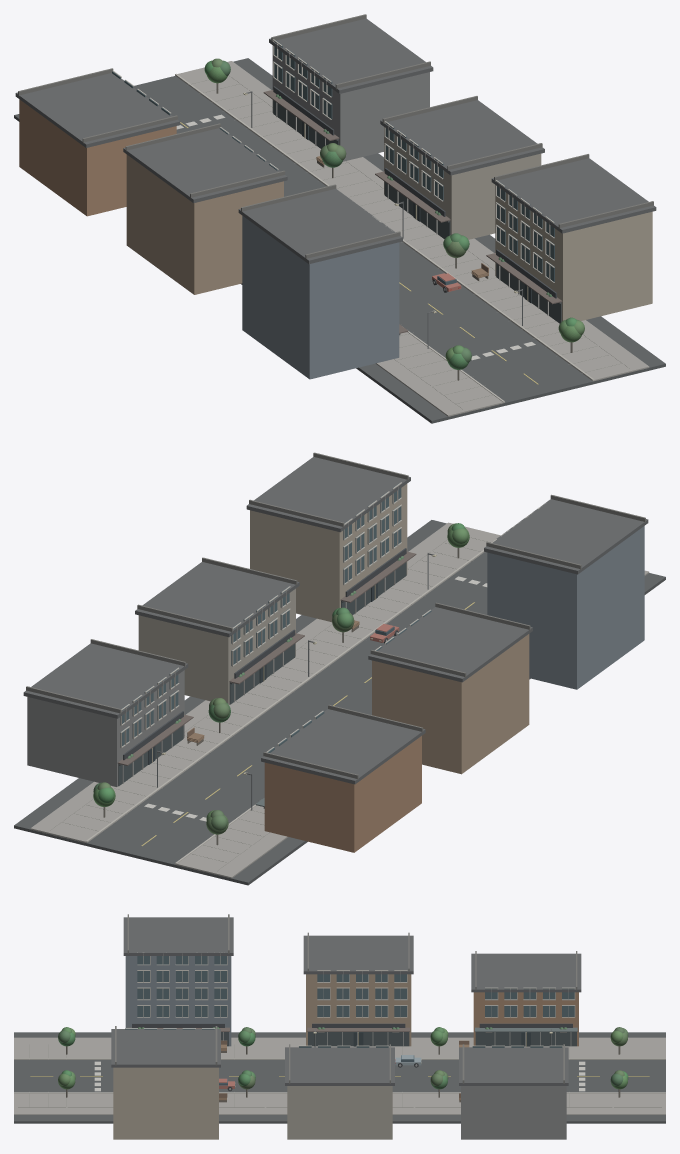
Rendered from Zerconda_Street_V5.glb.
3 renders of one model, top to bottom at view 1: azimuth 30°, elevation 25°; view 2: azimuth 150°, elevation 25°; view 3: azimuth 270°, elevation 25°, orthographic. The views are drawn at different scales.
Visible parts, largest first — view 1: asphalt_0, building_482, sidewalk_50, building_288, building_624, building_124, roof_cornice_483, roof_cornice_625, roof_cornice_289, roof_cornice_125, roof_cornice_401, roof_cornice_207 (+8 smaller); view 2: asphalt_0, building_482, sidewalk_50, building_288, building_124, building_624, building_206, roof_cornice_483, roof_cornice_625, roof_cornice_125, roof_cornice_289, roof_cornice_401 (+7 smaller); view 3: asphalt_0, building_624, sidewalk_50, sidewalk_1, building_206, building_400, building_482, roof_cornice_125, roof_cornice_289, roof_cornice_483, roof_cornice_625, roof_cornice_207 (+12 smaller).
Part boxes in pixels (bbox=[...]): asphalt_0: bbox=[14, 58, 665, 423]; building_482: bbox=[242, 216, 399, 379]; sidewalk_50: bbox=[177, 61, 649, 380]; building_288: bbox=[126, 154, 283, 294]; building_624: bbox=[495, 185, 652, 321]; building_124: bbox=[19, 99, 176, 216]; roof_cornice_483: bbox=[238, 189, 402, 264]; roof_cornice_625: bbox=[491, 158, 656, 233]; roof_cornice_289: bbox=[123, 128, 287, 203]; roof_cornice_125: bbox=[15, 73, 180, 147]; roof_cornice_401: bbox=[380, 100, 544, 175]; roof_cornice_207: bbox=[269, 18, 433, 93]; asphalt_0: bbox=[14, 520, 665, 885]; building_482: bbox=[487, 526, 644, 689]; sidewalk_50: bbox=[30, 522, 500, 843]; building_288: bbox=[372, 634, 529, 774]; building_124: bbox=[264, 736, 421, 852]; building_624: bbox=[250, 484, 407, 622]; building_206: bbox=[27, 670, 184, 786]; roof_cornice_483: bbox=[484, 499, 648, 574]; roof_cornice_625: bbox=[246, 457, 410, 532]; roof_cornice_125: bbox=[261, 709, 425, 784]; roof_cornice_289: bbox=[368, 607, 532, 682]; roof_cornice_401: bbox=[135, 562, 299, 637]; asphalt_0: bbox=[14, 1032, 665, 1123]; building_624: bbox=[113, 1067, 218, 1139]; sidewalk_50: bbox=[14, 1093, 665, 1114]; sidewalk_1: bbox=[14, 1037, 665, 1057]; building_206: bbox=[461, 1086, 566, 1139]; building_400: bbox=[287, 1086, 392, 1139]; building_482: bbox=[125, 956, 231, 1046]; roof_cornice_125: bbox=[471, 953, 581, 992]; roof_cornice_289: bbox=[303, 935, 413, 974]; roof_cornice_483: bbox=[123, 917, 233, 955]; roof_cornice_625: bbox=[111, 1029, 220, 1067]; roof_cornice_207: bbox=[459, 1047, 568, 1085].
Bounding box in the file's own units: 49.3 × 17.77 × 105.
